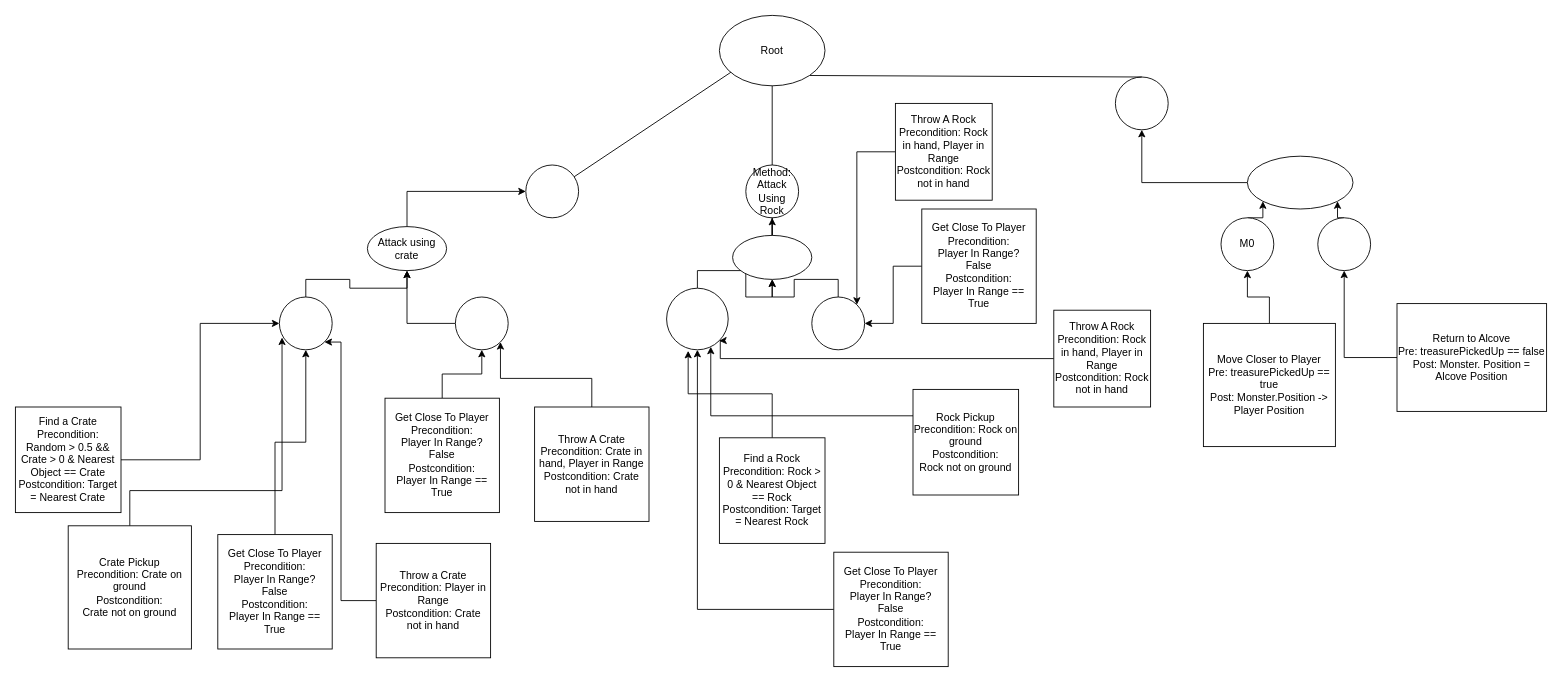
Some shapes in this 1562 by 682 pixel diagram are drawn without their labels. Here are the shapes that lost their labels. From the top down, the centre of each, then its label:
At (1141,103): "Method: Idle".
At (552,191): "Method: Attack Using Crate".
At (1300,182): "Move".
At (772,257): "Attack using Rock".
At (1344,244): "M1".
At (305,323): "M0 Find A Crate And Throw".
At (481,323): "M1 Throw A Crate Directly".
At (697,318): "M0 Find A Rock And Throw".
At (838,323): "M1 Throw A Rock Directly".
